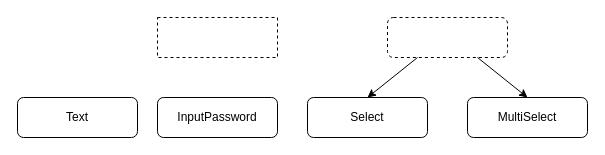
The diagram is 605 pixels wide and 155 high, and some of its shapes have lost their labels. Each missing label, with the centre of its shape:
"ColorsEnum" goes at point 217,37.
"List" goes at point 447,37.
